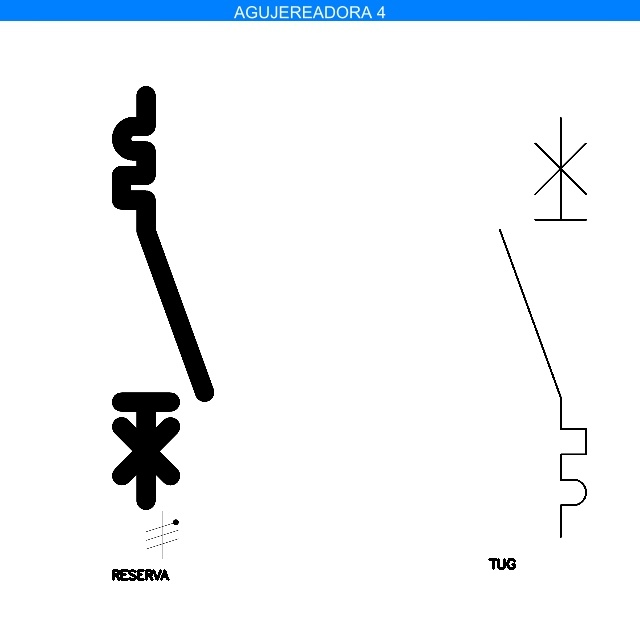interruptor_termomagnetico: (489, 107, 597, 548), (111, 85, 215, 511)
